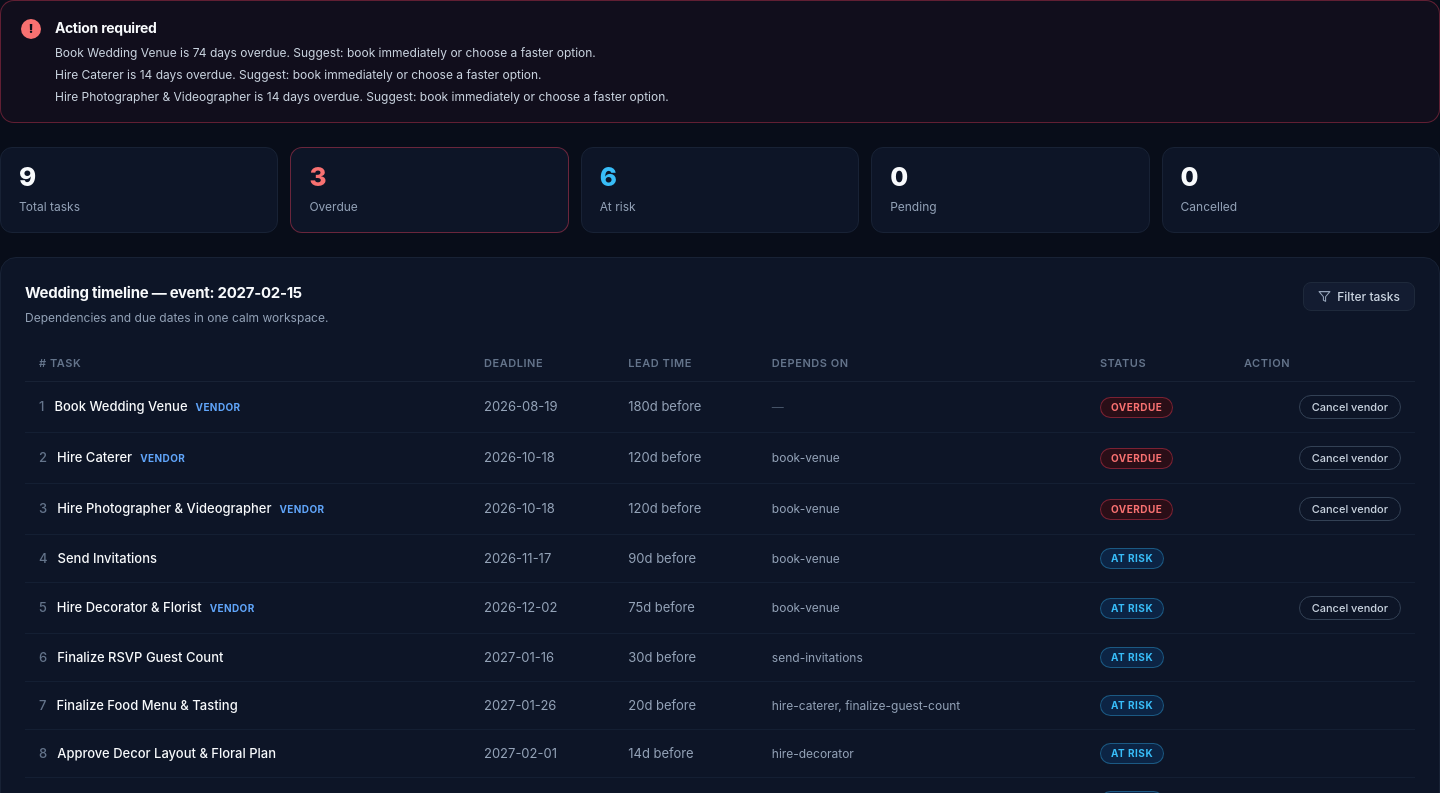
it: UI Primitives and TimelineTab Component Coverage › TimelineTab › renders timeline tasks, handles vendor cancellation, and toggles filters
Expected: the heading "Wedding timeline — event: 2027-02-15" is shown, x1=25 y1=282 x2=328 y2=304
Expected: the text "Book Wedding Venue" is shown, x1=54 y1=398 x2=188 y2=414
Click the button "Cancel vendor" in the row of "2026-08-19" at x=1350, y=407, box x1=1299 y1=395 x2=1401 y2=419
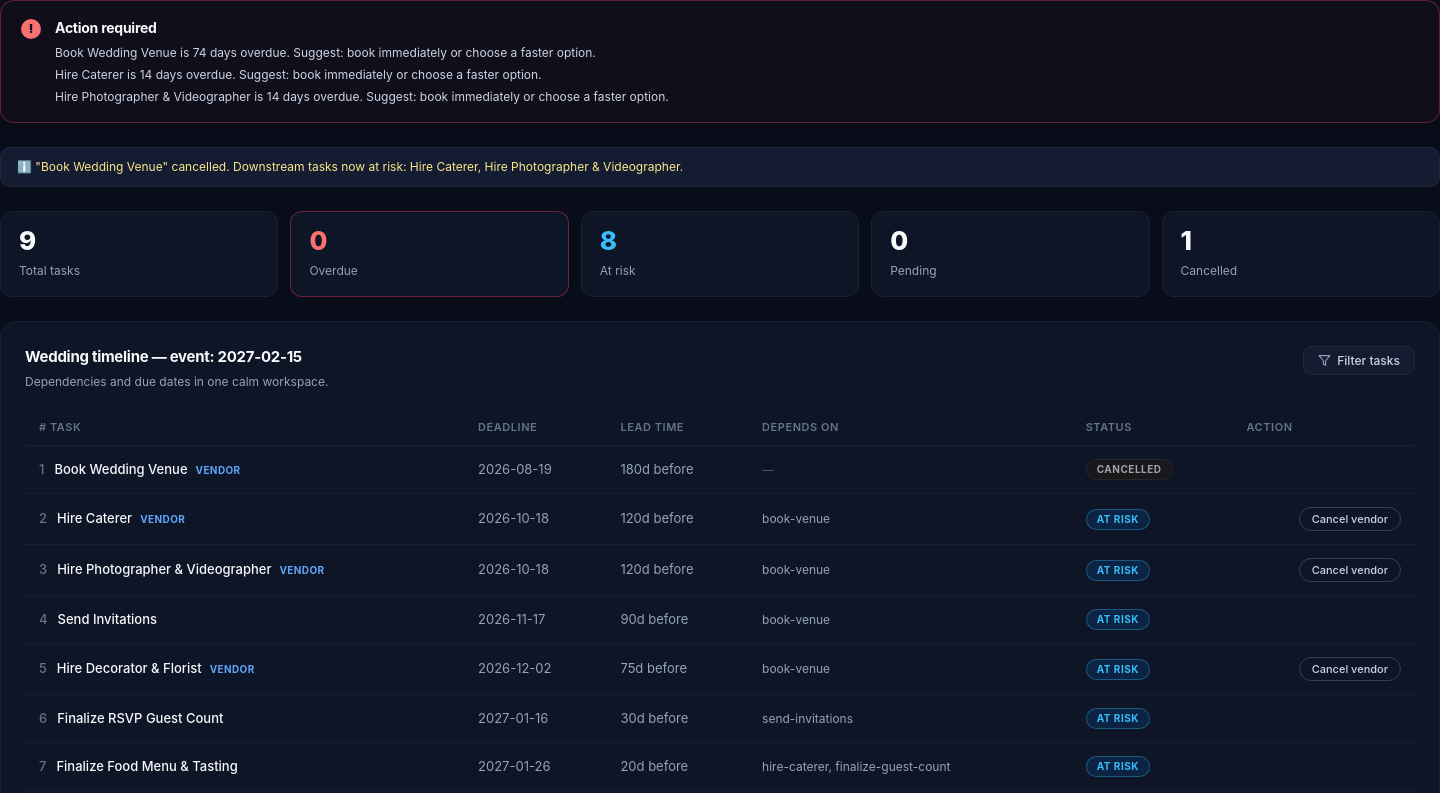
Result: the text "cancelled. Downstream tasks now at risk" is shown at x1=35 y1=159 x2=683 y2=174
Note: Toggle filter
Click the button "Filter tasks" at x=1359, y=360, box x1=1303 y1=346 x2=1415 y2=375
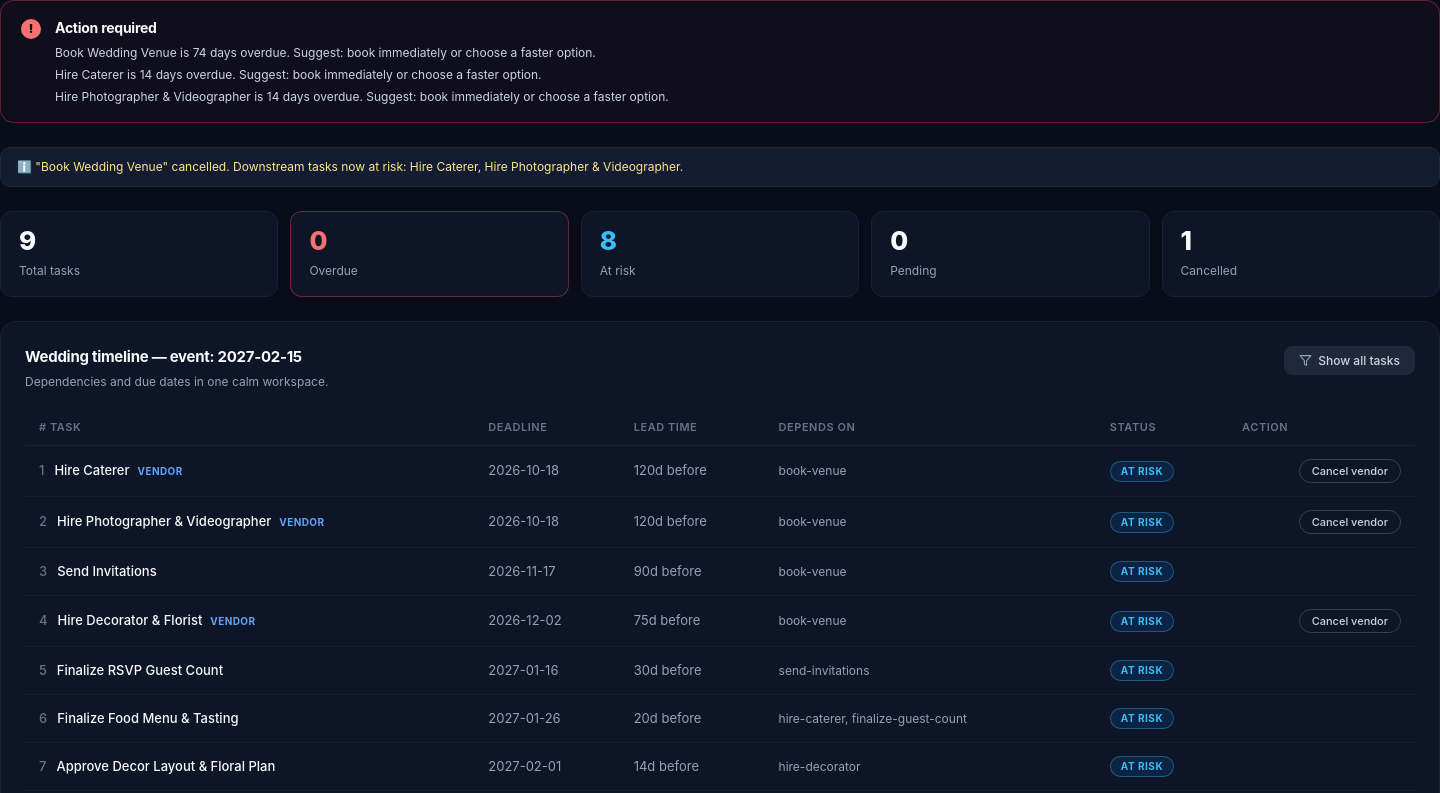
Result: the button "Show all tasks" is shown at x1=1284 y1=346 x2=1415 y2=375
